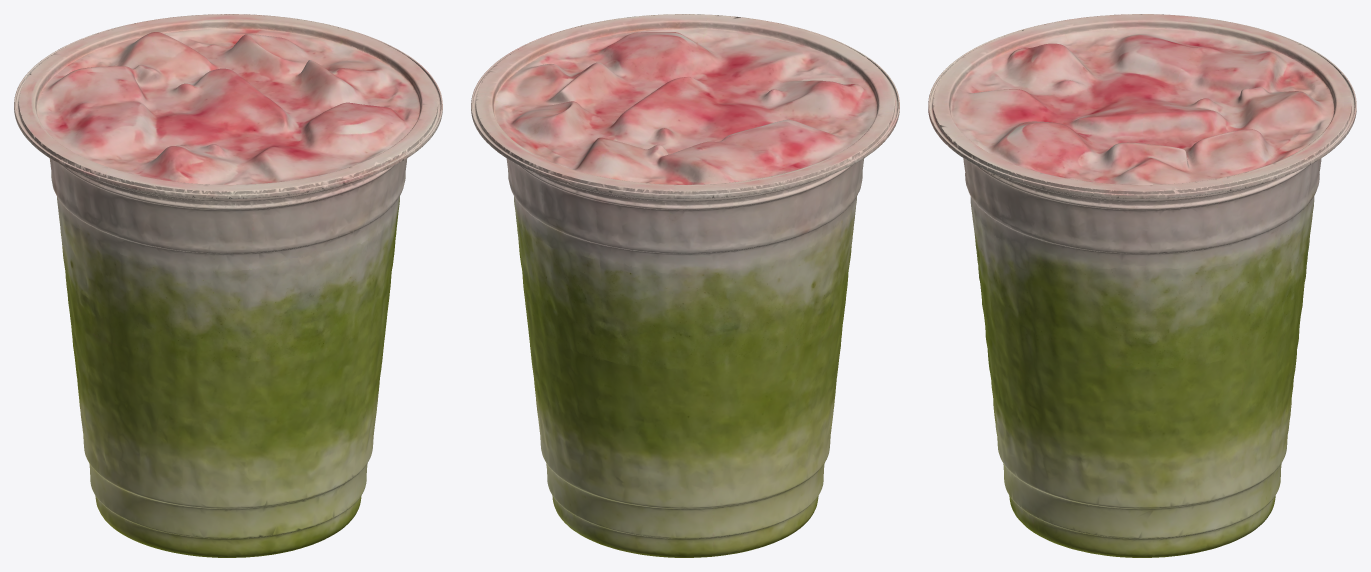
The model's file is rouge-cloud-web.glb.
3 renders of one model, left to right at view 1: azimuth 30°, elevation 25°; view 2: azimuth 150°, elevation 25°; view 3: azimuth 270°, elevation 25°, orthographic.
Size of the model in its own units: 1.79 by 1.9 by 1.79.
1 material, 1 textured.
